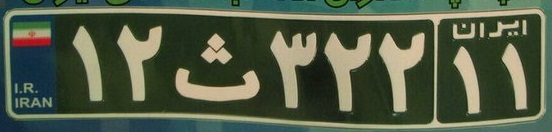1: (66, 21, 115, 107), (448, 42, 488, 118), (496, 38, 533, 114)
2: (111, 17, 168, 107), (375, 28, 429, 116), (321, 28, 375, 114)
3: (267, 26, 321, 113)
ث: (172, 28, 265, 104)
